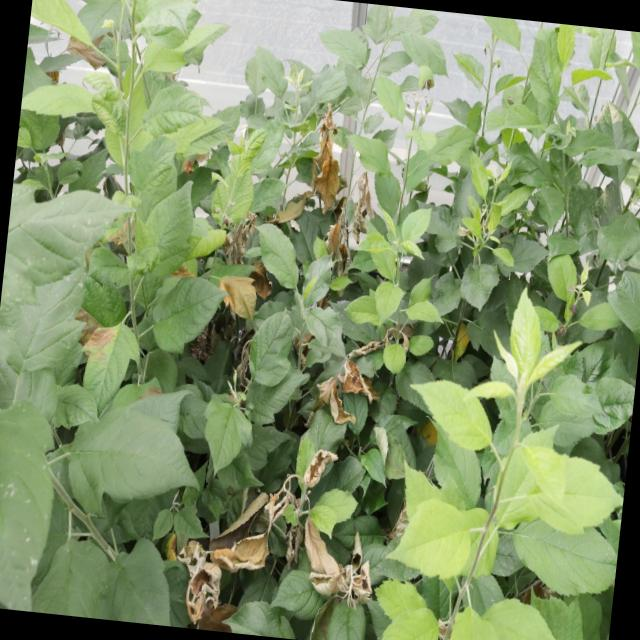-FireBlight-: (175, 446, 389, 633), (221, 112, 350, 319), (301, 324, 415, 427), (319, 176, 371, 271), (222, 266, 256, 322)
